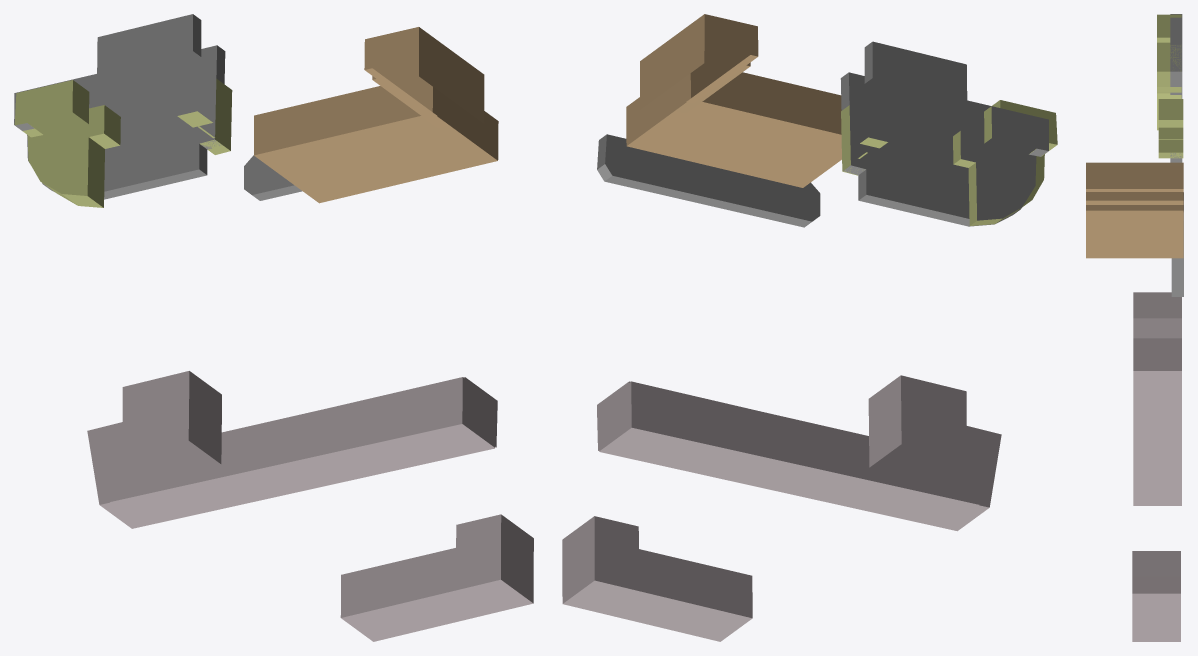
The picture shows the model from 3 angles, left to right: view 1: azimuth 30°, elevation 25°; view 2: azimuth 150°, elevation 25°; view 3: azimuth 270°, elevation 25°; orthographic projection. The views are drawn at different scales.
Parts seen in each view (by area): view 1: 0_3_2_0_0_1_1; view 2: 0_3_2_0_0_1_1; view 3: 0_3_2_0_0_1_1.
Part boxes in pixels (bbox=[...]): 0_3_2_0_0_1_1: bbox=[14, 14, 533, 641]; 0_3_2_0_0_1_1: bbox=[562, 14, 1057, 641]; 0_3_2_0_0_1_1: bbox=[1086, 14, 1183, 641].
Bounding box in the file's own units: 103 × 130 × 24.1.
